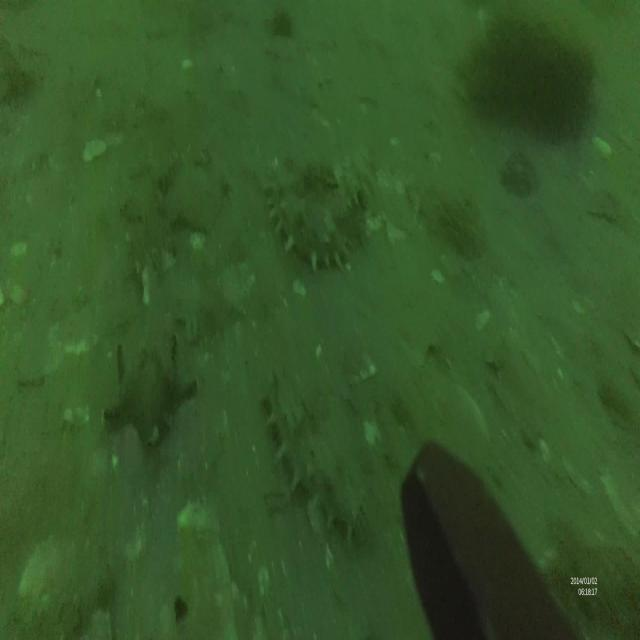holothurian: (260, 365, 370, 547), (267, 172, 346, 271), (311, 148, 371, 246)
starfish: (104, 335, 196, 452)
